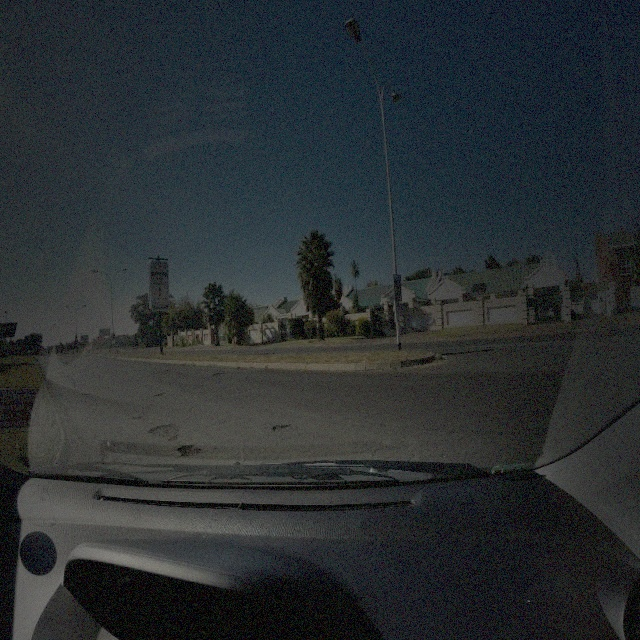pothole: (146, 420, 182, 440), (175, 442, 204, 456), (270, 420, 292, 433), (211, 368, 226, 376), (155, 388, 166, 396)
